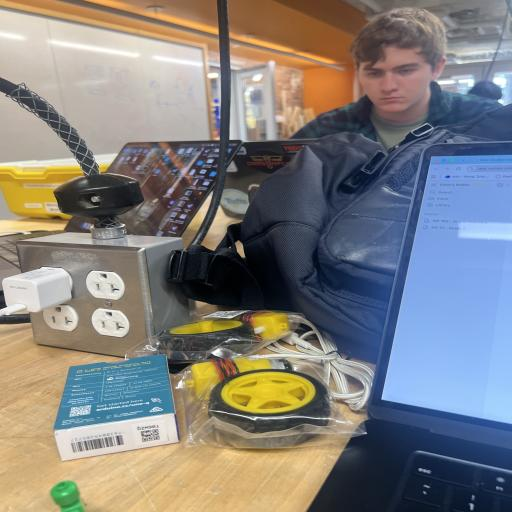green-lego-minifigure-detector: (51, 481, 85, 512)
